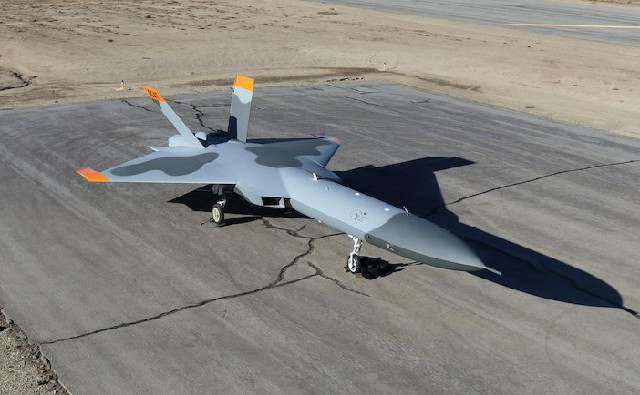maybay_khongnguoilai: (82, 80, 493, 280)
